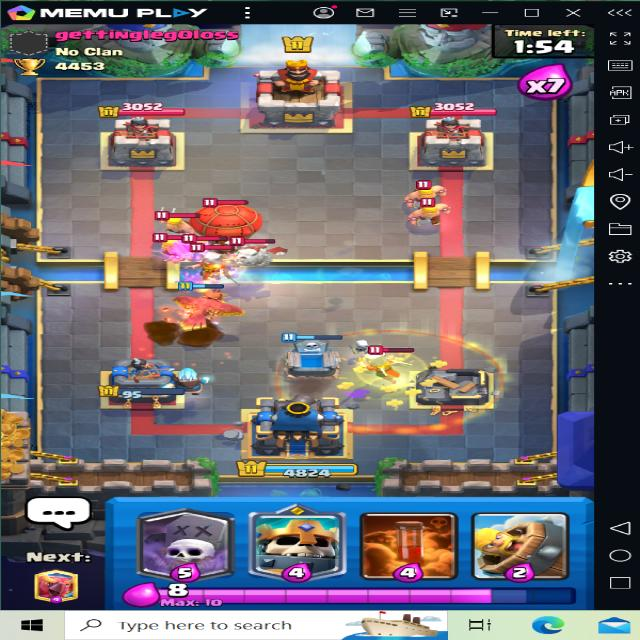balloon: (196, 197, 264, 256)
barbarian: (408, 196, 454, 227), (150, 209, 204, 234), (152, 233, 198, 260), (401, 181, 448, 203)
battle-healer: (359, 342, 434, 387), (189, 246, 243, 284)
skeleton-dragon: (223, 241, 294, 273)
